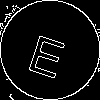E: (25, 25, 71, 79)
